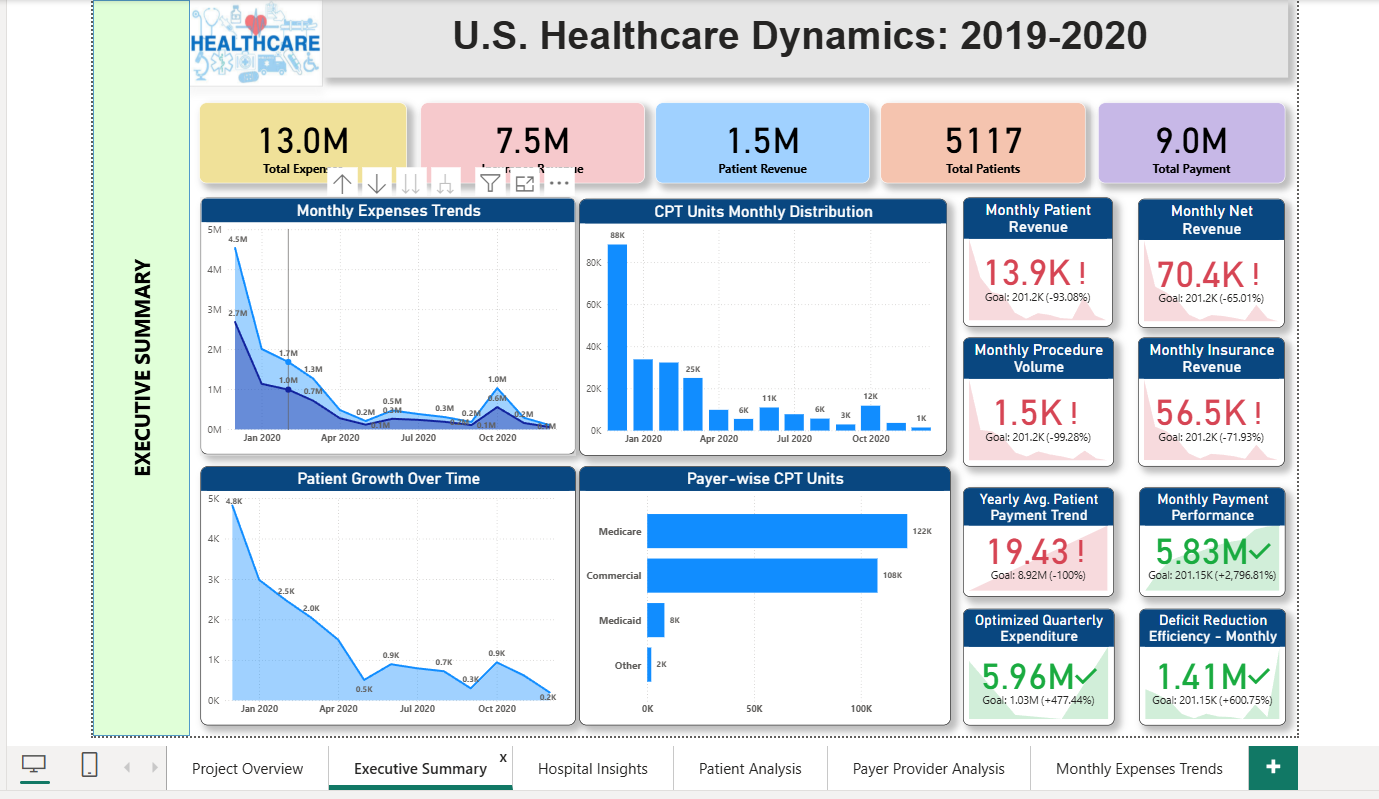

Layout of this report page (visuals, bound fields, positions):
{"tool":"powerbi","page":{"name":"Executive Summary","canvas":[1800,1100],"ordinal":1},"visuals":[{"type":"image","box":[144.2,0,199.5,129.1],"z":0},{"type":"card","fields":{"Values":["FactTable.Total Expenses"]},"box":[159.2,152.5,310.1,120.7],"z":1000},{"type":"card","fields":{"Values":["FactTable.Insurance Revenue"]},"box":[489.5,152.5,335.3,120.7],"z":2000},{"type":"card","fields":{"Values":["FactTable.Patient Revenue"]},"box":[839.8,152.5,320.2,120.7],"z":3000},{"type":"card","fields":{"Values":["FactTable.Total Patients"]},"box":[1176.8,152.5,306.8,120.7],"z":4000},{"type":"card","fields":{"Values":["FactTable.Total Payment"]},"box":[1502,152.5,279.9,120.7],"z":5000},{"type":"areaChart","title":"Patient Growth Over Time","fields":{"Y":["FactTable.Total Patients"],"Category":["DimDate.Start of Month.Variation.Date Hierarchy.Year","DimDate.Start of Month.Variation.Date Hierarchy.Month"]},"box":[160.1,697.2,561.2,387.3],"z":6000},{"type":"clusteredBarChart","title":" Payer-wise CPT Units","fields":{"Y":["Sum(FactTable.CPTUnits)"],"Category":["DimPayer.PayerName"]},"box":[725.8,697.3,554.9,387.2],"z":7000},{"type":"kpi","title":"Monthly Patient Revenue ","fields":{"Indicator":["Sum(FactTable.Patient_Payment)"],"Goal":["FactTable.Previous Month Pay"],"TrendLine":["DimDate.Start of Month"]},"box":[1299.7,296.1,223.8,192.8],"z":8000},{"type":"shape","box":[0,0,144.6,1100],"z":9000},{"type":"textbox","box":[344,0,1442,116],"z":10000},{"type":"areaChart","title":" Monthly Expenses Trends","fields":{"Y":["Sum(FactTable.Gross Expenses)","Sum(FactTable.Insurance_Payment)"],"Category":["DimDate.Start of Month.Variation.Date Hierarchy.Year","DimDate.Start of Month.Variation.Date Hierarchy.Month"]},"box":[160.1,296.1,561.2,383.9],"z":11000},{"type":"kpi","title":"Monthly Net Revenue","fields":{"TrendLine":["DimDate.Start of Month"],"Indicator":["FactTable.Total Payment"],"Goal":["FactTable.Previous Month Pay"]},"box":[1562.3,296.7,219.6,192.8],"z":12000},{"type":"kpi","title":" Monthly Procedure Volume","fields":{"TrendLine":["DimDate.Start of Month"],"Indicator":["Sum(FactTable.CPTUnits)"],"Goal":["FactTable.Previous Month Pay"]},"box":[1299.7,504.4,225.5,192.8],"z":13000},{"type":"kpi","title":"Monthly Insurance Revenue","fields":{"TrendLine":["DimDate.Start of Month"],"Goal":["FactTable.Previous Month Pay"],"Indicator":["FactTable.Insurance Revenue"]},"box":[1562.3,504.6,219.6,192.8],"z":14000},{"type":"kpi","title":"Yearly Avg. Patient Payment Trend","fields":{"TrendLine":["DimDate.Date.Variation.Date Hierarchy.Year"],"Goal":["FactTable.Previous Month Pay"],"Indicator":["FactTable.Avg Patient Payment"]},"box":[1299.7,728.2,225.5,163.5],"z":15000},{"type":"kpi","title":"Monthly Payment Performance","fields":{"TrendLine":["DimDate.Date.Variation.Date Hierarchy.Month"],"Goal":["FactTable.Previous Month Pay"],"Indicator":["FactTable.YTD Payment"]},"box":[1563.1,728.2,218.6,163.5],"z":16000},{"type":"kpi","title":"Optimized Quarterly Expenditure","fields":{"TrendLine":["DimDate.Date.Variation.Date Hierarchy.Quarter"],"Goal":["FactTable.Previous Month Pay"],"Indicator":["FactTable.Total Expenses"]},"box":[1300,910,226,174],"z":17000},{"type":"kpi","title":"Deficit Reduction Efficiency - Monthly","fields":{"TrendLine":["DimDate.Date.Variation.Date Hierarchy.Month"],"Indicator":["FactTable.Total Deficit"],"Goal":["FactTable.Previous Month Pay"]},"box":[1563,910,219,174],"z":18000},{"type":"columnChart","title":" CPT Units Monthly Distribution","fields":{"Y":["Sum(FactTable.CPTUnits)"],"Category":["DimDate.Start of Month"]},"box":[725.8,296.7,549.8,383.9],"z":19000}]}

Visuals, with their boxes on the page's 1800x1100 design canvas (x1, y1, x2, y2). These are canvas units, not pixel positions in the 1379x799 screenshot, which may show the page scaled, cropped or inside an application window:
image: x1=144, y1=0, x2=344, y2=129
card - FactTable.Total Expenses: x1=159, y1=152, x2=469, y2=273
card - FactTable.Insurance Revenue: x1=490, y1=152, x2=825, y2=273
card - FactTable.Patient Revenue: x1=840, y1=152, x2=1160, y2=273
card - FactTable.Total Patients: x1=1177, y1=152, x2=1484, y2=273
card - FactTable.Total Payment: x1=1502, y1=152, x2=1782, y2=273
"Patient Growth Over Time" areaChart: x1=160, y1=697, x2=721, y2=1084
" Payer-wise CPT Units" clusteredBarChart: x1=726, y1=697, x2=1281, y2=1084
"Monthly Patient Revenue " kpi: x1=1300, y1=296, x2=1524, y2=489
shape: x1=0, y1=0, x2=145, y2=1100
textbox: x1=344, y1=0, x2=1786, y2=116
" Monthly Expenses Trends" areaChart: x1=160, y1=296, x2=721, y2=680
"Monthly Net Revenue" kpi: x1=1562, y1=297, x2=1782, y2=490
" Monthly Procedure Volume" kpi: x1=1300, y1=504, x2=1525, y2=697
"Monthly Insurance Revenue" kpi: x1=1562, y1=505, x2=1782, y2=697
"Yearly Avg. Patient Payment Trend" kpi: x1=1300, y1=728, x2=1525, y2=892
"Monthly Payment Performance" kpi: x1=1563, y1=728, x2=1782, y2=892
"Optimized Quarterly Expenditure" kpi: x1=1300, y1=910, x2=1526, y2=1084
"Deficit Reduction Efficiency - Monthly" kpi: x1=1563, y1=910, x2=1782, y2=1084
" CPT Units Monthly Distribution" columnChart: x1=726, y1=297, x2=1276, y2=681
